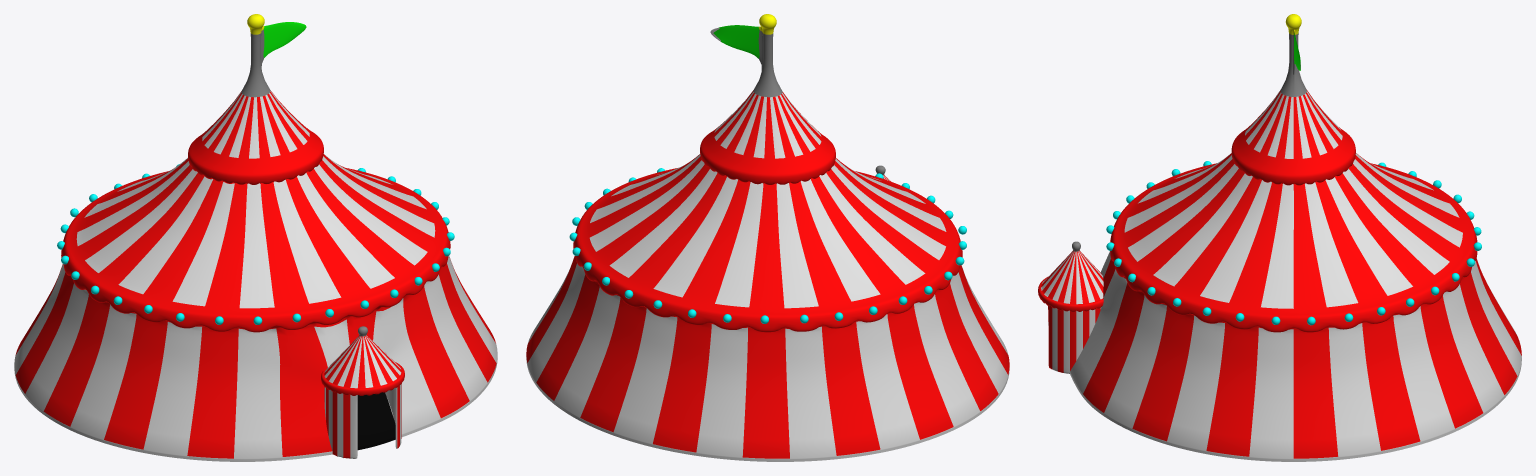
Rendered from Circus.fbx.
The picture shows the model from 3 angles, left to right: view 1: azimuth 30°, elevation 25°; view 2: azimuth 150°, elevation 25°; view 3: azimuth 270°, elevation 25°; orthographic projection.
Visible parts, largest first — view 1: Cylinder; view 2: Cylinder; view 3: Cylinder.
Part boxes in pixels (box(x1,y1,x2,y2)): Cylinder: box(14, 14, 497, 461); Cylinder: box(526, 14, 1009, 461); Cylinder: box(1038, 14, 1521, 461).
Bounding box in the file's own units: 30.04 × 23.51 × 29.95.
